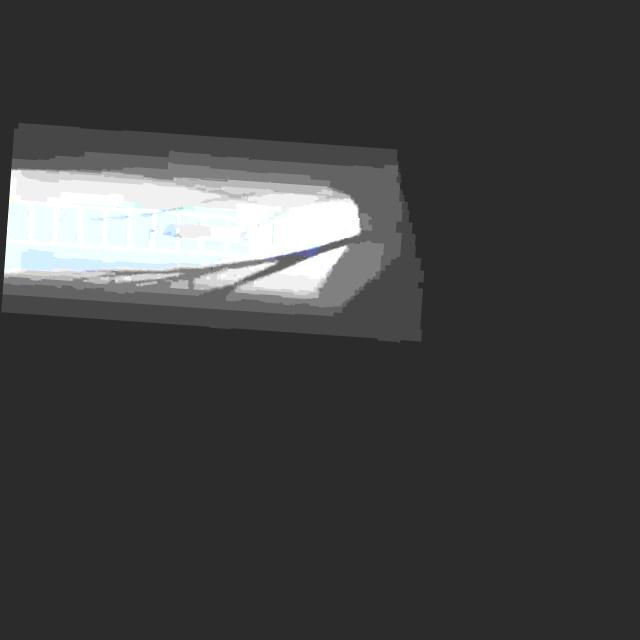boy: (148, 214, 256, 242)
